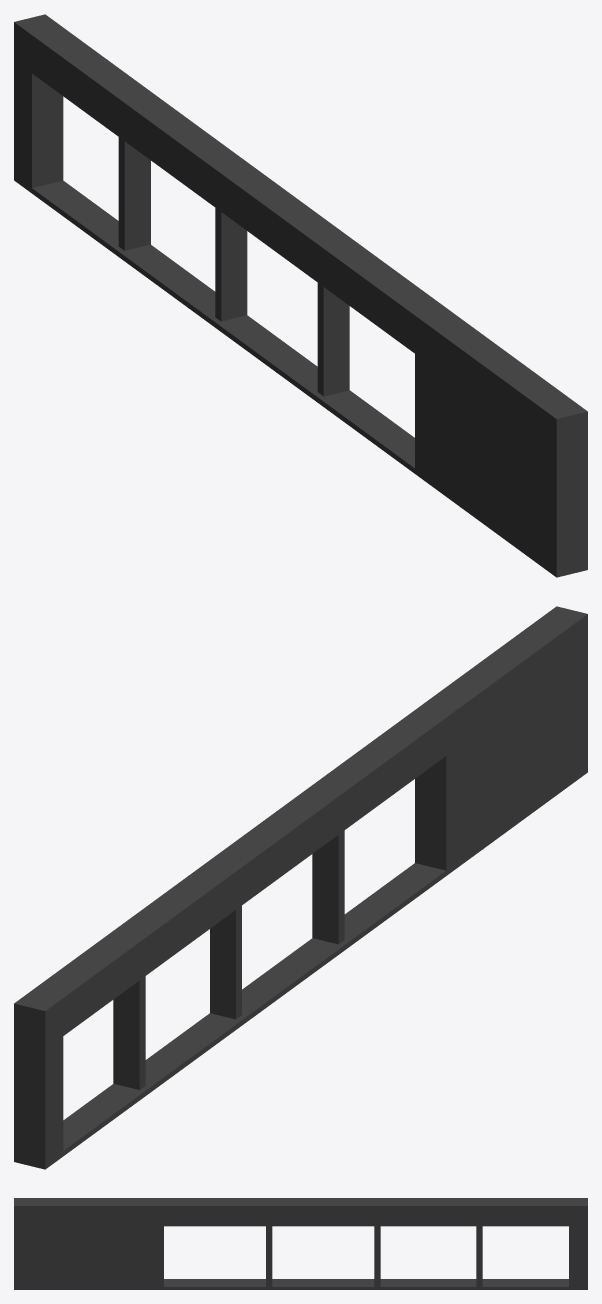
The model's file is subway2-4.obj.
3 views of the same model, one above another, from view 1: azimuth 30°, elevation 25°; view 2: azimuth 150°, elevation 25°; view 3: azimuth 270°, elevation 25° (orthographic). The views are drawn at different scales.
Size of the model in its own units: 0.6 by 2.9 by 18.
Materials: 1 (1 with a texture image).
